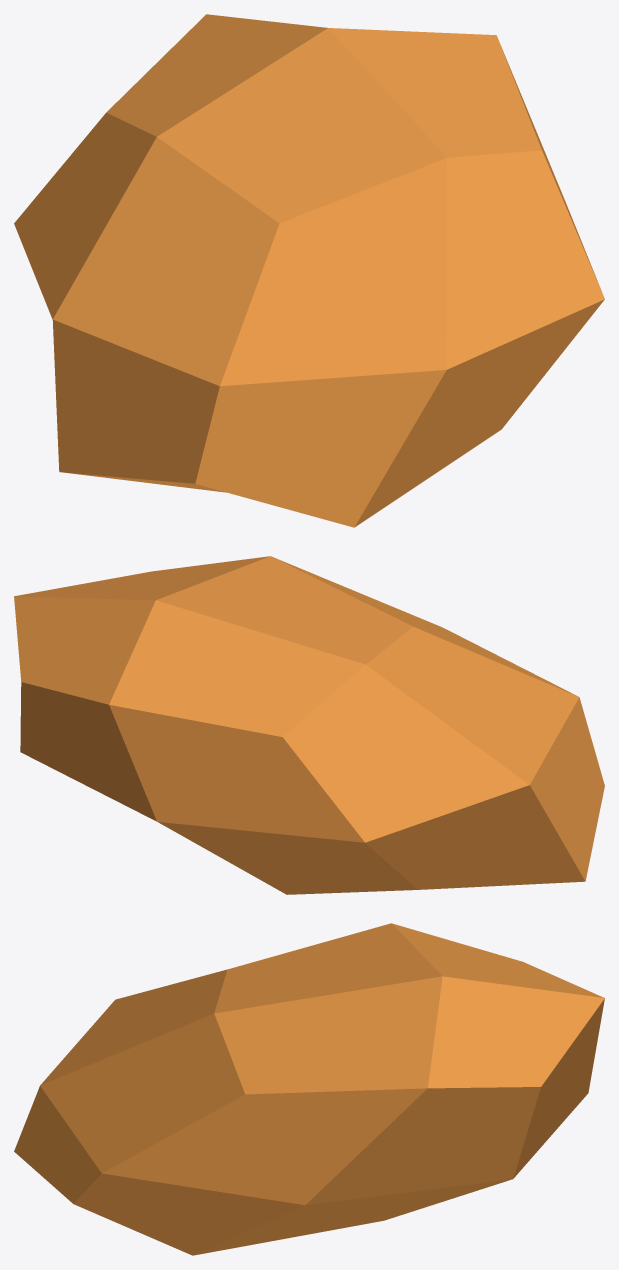
File: SM_FloatingStone_B.fbx
The picture shows the model from 3 angles, top to bottom: view 1: azimuth 30°, elevation 25°; view 2: azimuth 150°, elevation 25°; view 3: azimuth 270°, elevation 25°; orthographic projection. The views are drawn at different scales.
Parts seen in each view (by area): view 1: SM_FloatingStone_B; view 2: SM_FloatingStone_B; view 3: SM_FloatingStone_B.
Boxes of the visible parts, left/top/right/bottom form: SM_FloatingStone_B: left=14, top=14, right=604, bottom=527; SM_FloatingStone_B: left=14, top=556, right=604, bottom=894; SM_FloatingStone_B: left=14, top=923, right=604, bottom=1255.
Bounding box in the file's own units: 56.27 × 32.91 × 57.58.
